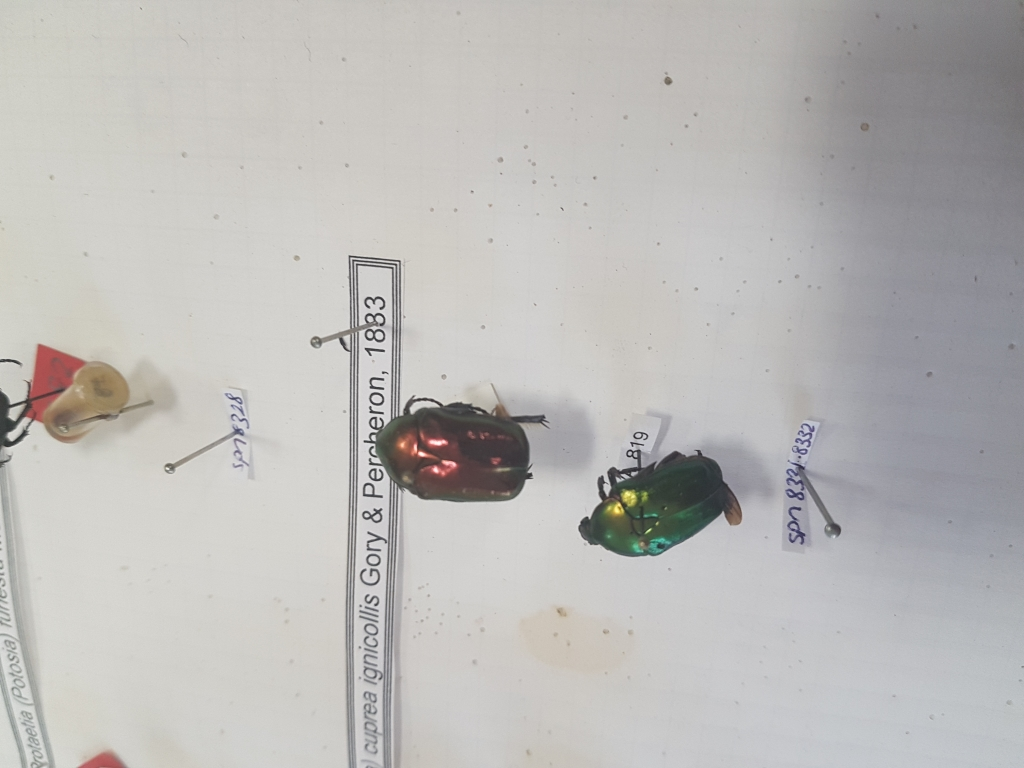Protaetia_cuprea_ignicollis: (371, 397, 548, 507)
